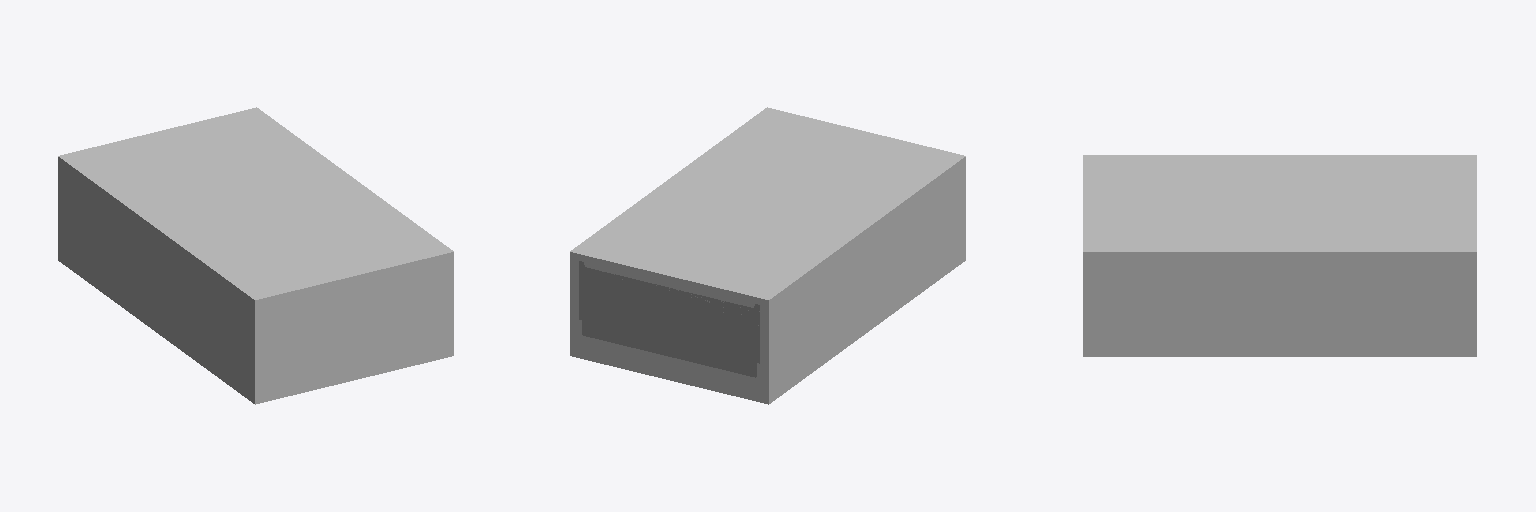
The model's file is zm_perk_machine_doubletap.obj.
The picture shows the model from 3 angles: view 1: azimuth 30°, elevation 25°; view 2: azimuth 150°, elevation 25°; view 3: azimuth 270°, elevation 25°; orthographic projection.
Parts seen in each view (by area): view 1: co_culling; view 2: co_culling, g_perk_a, c_convex_001; view 3: co_culling.
Boxes of the visible parts, <box> form: co_culling: <box>58,107,453,404</box>; co_culling: <box>570,107,965,404</box>; g_perk_a: <box>579,261,759,377</box>; c_convex_001: <box>577,258,761,382</box>; co_culling: <box>1083,155,1476,356</box>.
Bounding box in the file's own units: 140 × 70 × 240.